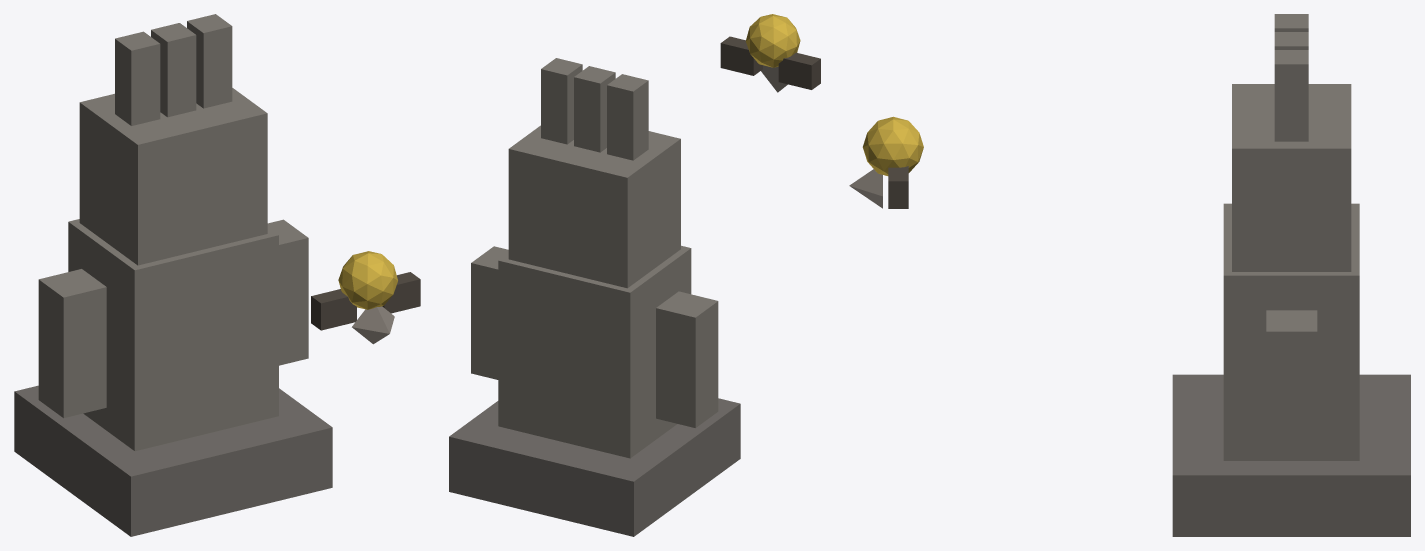
File: ancient_idol.glb
3 views of the same model, side by side, from view 1: azimuth 30°, elevation 25°; view 2: azimuth 150°, elevation 25°; view 3: azimuth 270°, elevation 25° (orthographic). The views are drawn at different scales.
Parts seen in each view (by area): view 1: part_01, part_00, part_02, part_10, part_09, part_06, part_07, part_08, part_11, part_04, part_05, part_03; view 2: part_01, part_00, part_02, part_10, part_09, part_06, part_07, part_08, part_11, part_04, part_03; view 3: part_00, part_02, part_01, part_09, part_08, part_11, part_03, part_05.
Part boxes in pixels (bbox=[...]): part_01: bbox=[68, 219, 278, 451]; part_00: bbox=[14, 385, 332, 536]; part_02: bbox=[79, 88, 267, 265]; part_10: bbox=[38, 269, 106, 418]; part_09: bbox=[267, 219, 308, 365]; part_06: bbox=[115, 31, 160, 125]; part_07: bbox=[151, 23, 196, 117]; part_08: bbox=[187, 14, 232, 108]; part_11: bbox=[338, 251, 397, 309]; part_04: bbox=[311, 289, 356, 330]; part_05: bbox=[352, 306, 394, 344]; part_03: bbox=[382, 272, 420, 313]; part_01: bbox=[498, 245, 691, 458]; part_00: bbox=[449, 398, 740, 536]; part_02: bbox=[508, 125, 680, 288]; part_10: bbox=[656, 291, 718, 427]; part_09: bbox=[471, 246, 508, 379]; part_06: bbox=[607, 74, 648, 160]; part_07: bbox=[574, 66, 615, 152]; part_08: bbox=[541, 58, 582, 144]; part_11: bbox=[745, 14, 800, 67]; part_04: bbox=[778, 52, 820, 89]; part_03: bbox=[720, 36, 762, 75]; part_00: bbox=[1172, 374, 1410, 536]; part_02: bbox=[1232, 84, 1351, 271]; part_01: bbox=[1223, 203, 1359, 460]; part_09: bbox=[1266, 310, 1317, 455]; part_08: bbox=[1274, 50, 1308, 141]; part_11: bbox=[862, 116, 923, 175]; part_03: bbox=[888, 166, 908, 208]; part_05: bbox=[849, 169, 882, 208].
Bounding box in the file's own units: 1.7 × 2.9 × 3.3.
